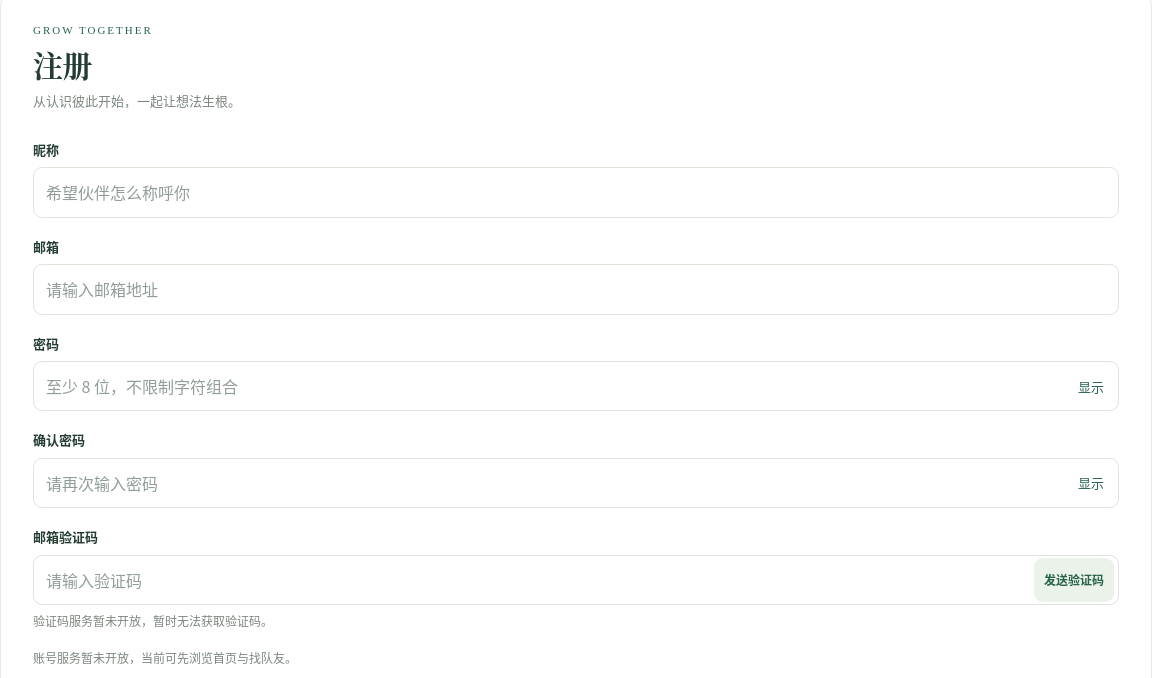
Test: 登录注册表单 › 注册非法字段有反馈且不显示认证结果：{"password":"1234567","confirmation":"1234567"}
Type "禾苗" into the field with id "auth-nickname" at (576, 193), box [34,168,1118,217]
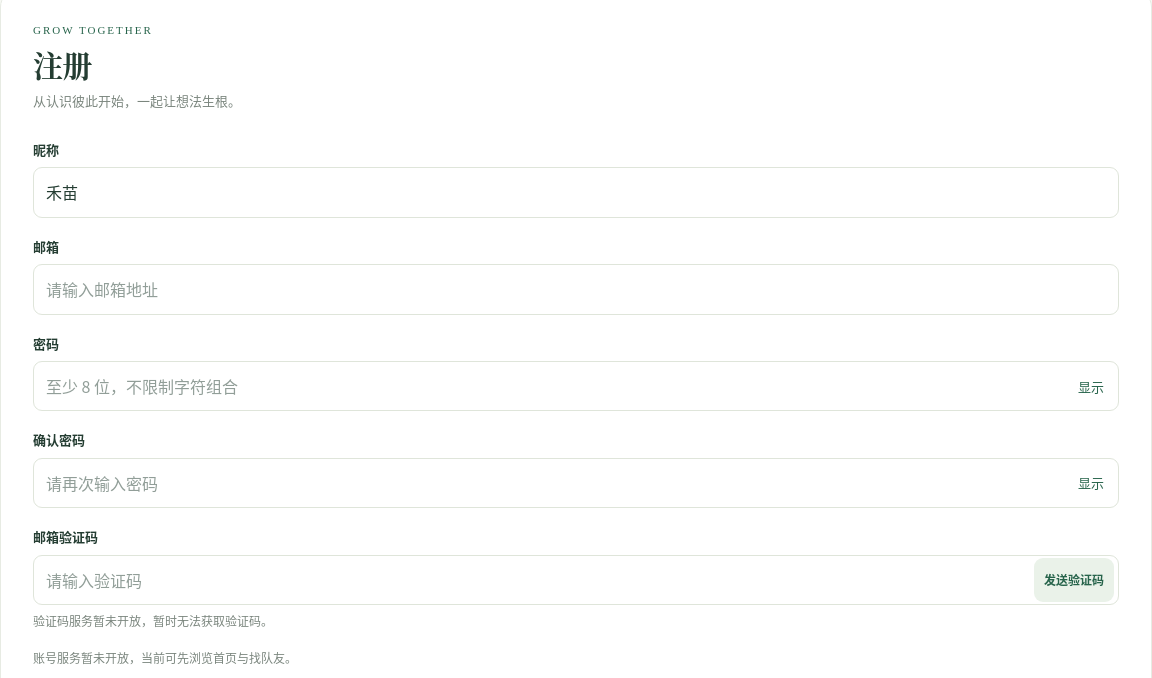
Type "student@example.com" into the field labelled "邮箱" at (576, 289), box [34,265,1118,314]
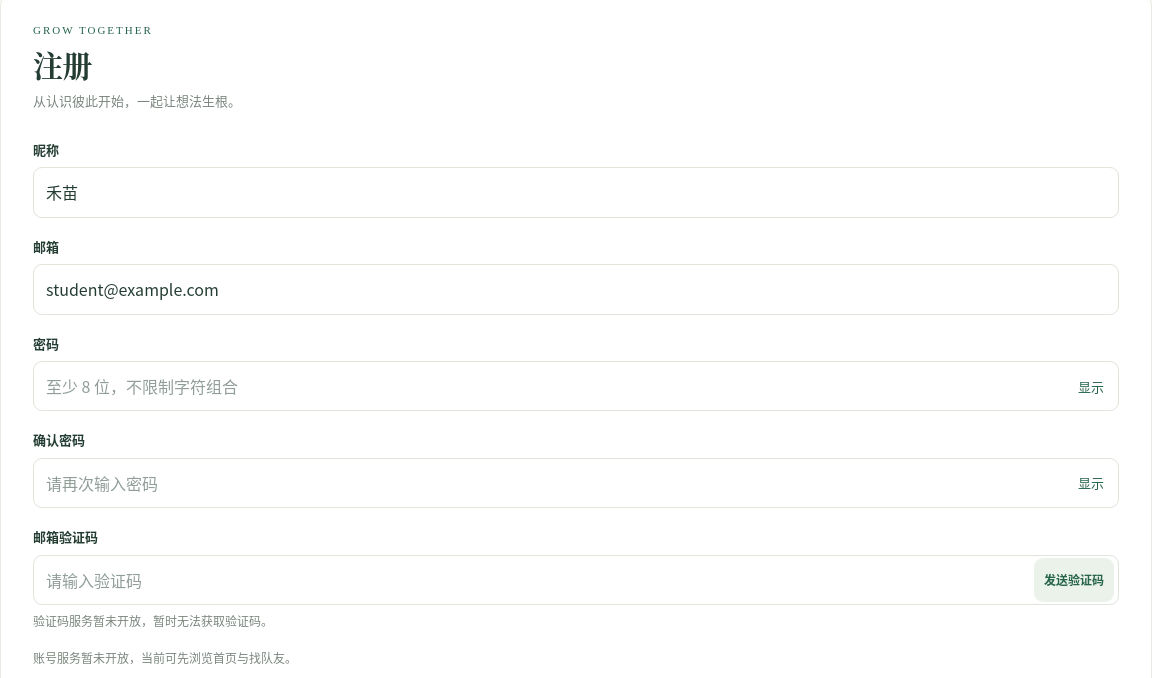
Type "1234567" into the password field with id "auth-password" at (551, 386), box [34,362,1068,410]
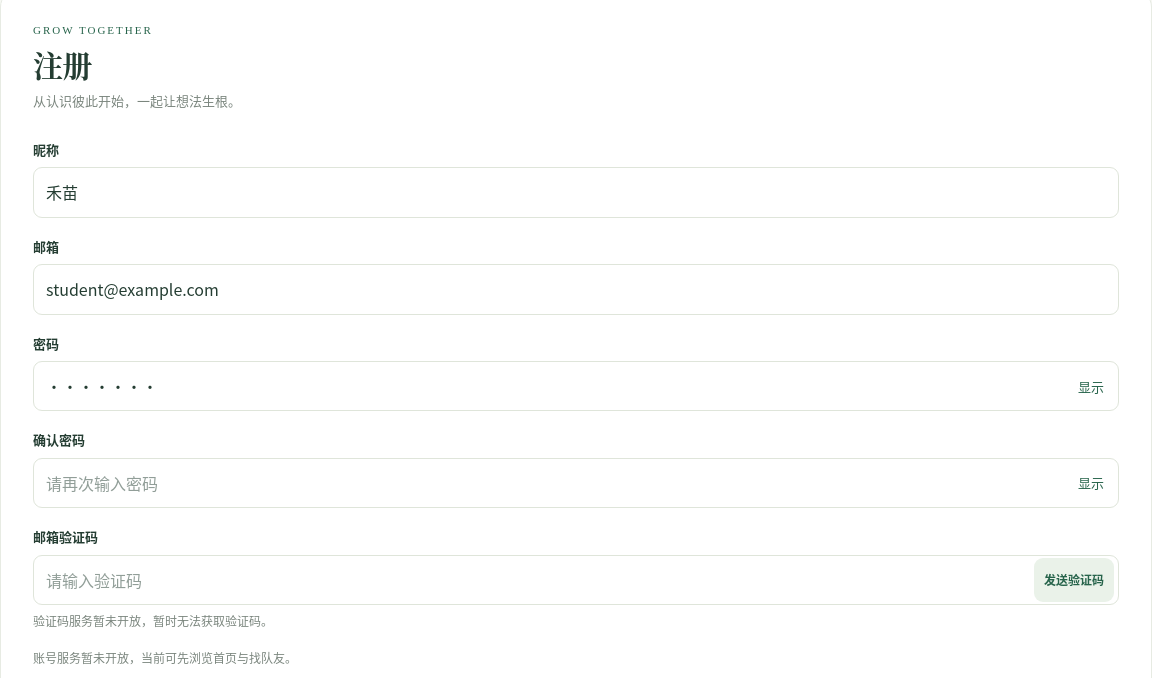
Type "1234567" into the password field labelled "确认密码" at (551, 483), box [34,459,1068,507]
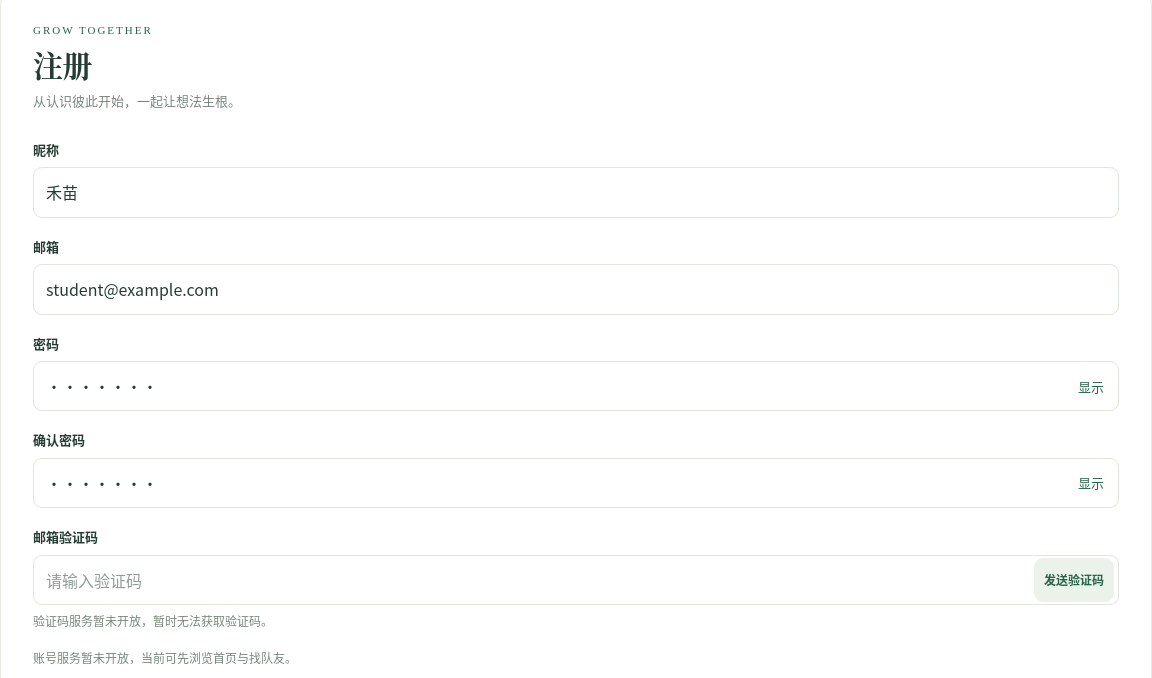
Type "arbitrary-code" into the field labelled "邮箱验证码" at (534, 580), box [34,556,1034,604]
(page scrolled)
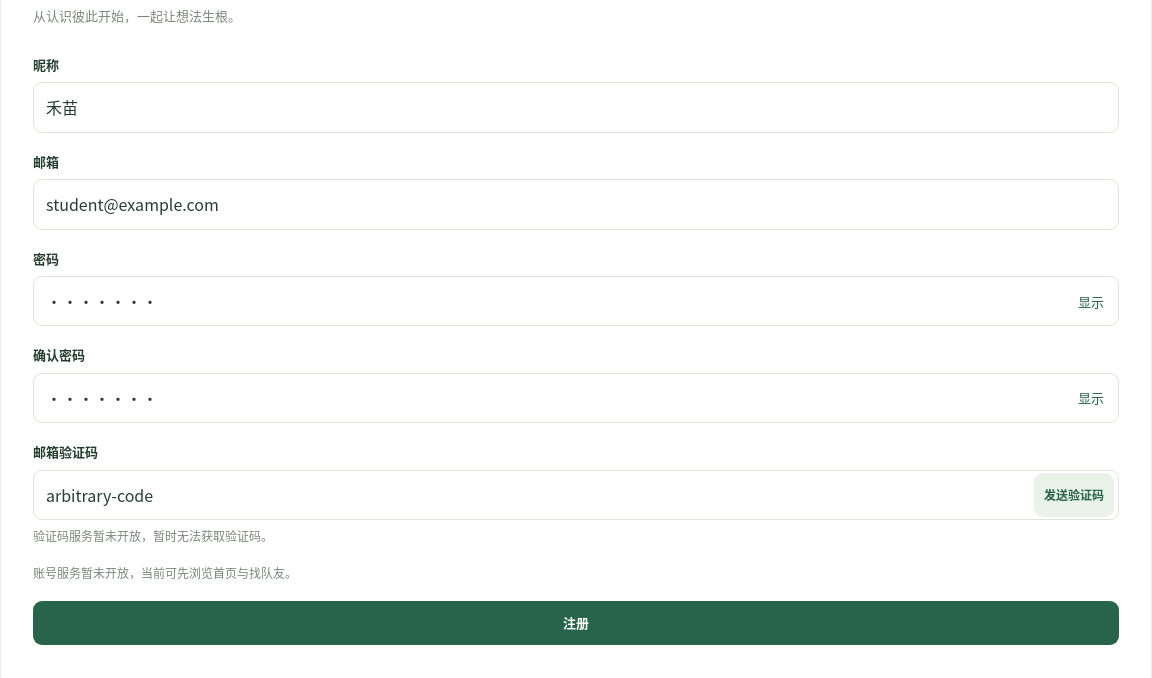
Submit the form
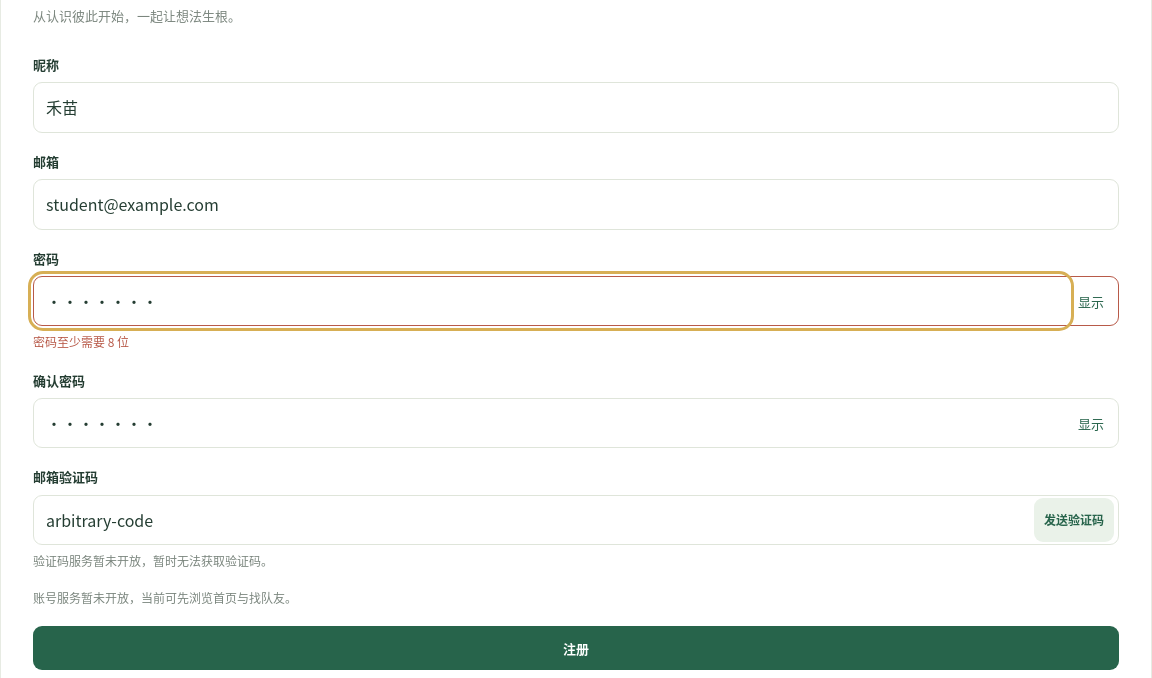
Check: the text "密码至少需要 8 位" is shown, box [33,333,129,350]
